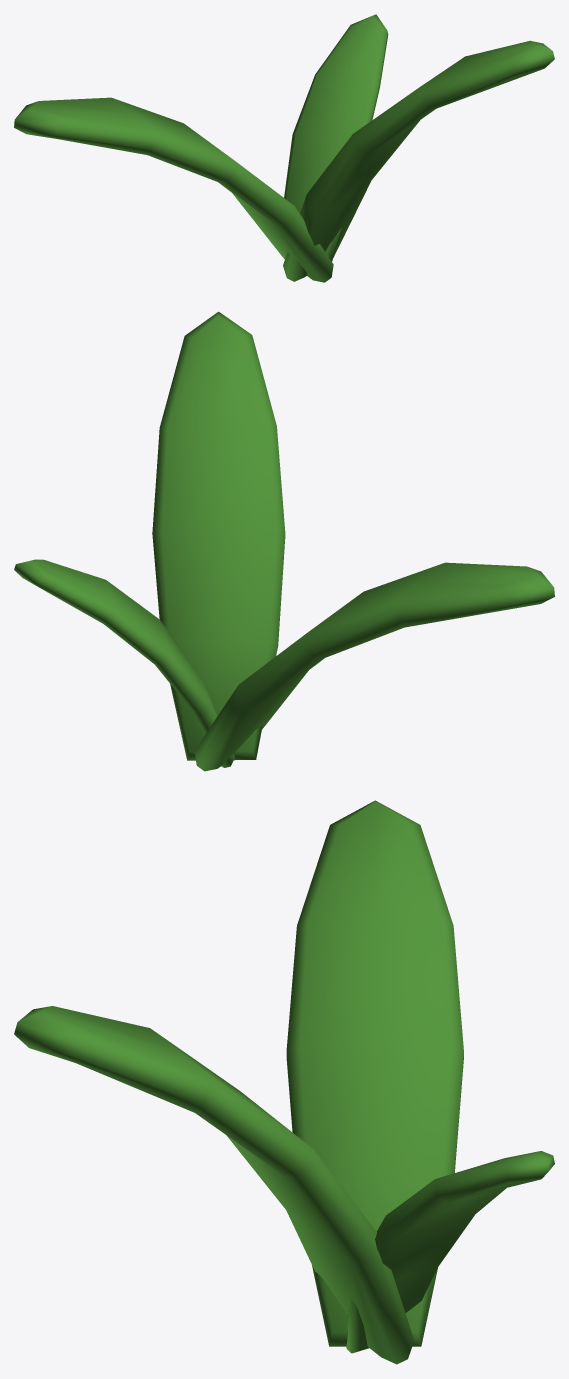
The model's file is Grass_02.fbx.
The picture shows the model from 3 angles, top to bottom: view 1: azimuth 30°, elevation 25°; view 2: azimuth 150°, elevation 25°; view 3: azimuth 270°, elevation 25°; orthographic projection. The views are drawn at different scales.
Parts seen in each view (by area): view 1: Grass_02; view 2: Grass_02; view 3: Grass_02.
Part boxes in pixels (box(x1,y1,x2,y2)): Grass_02: box(14, 14, 554, 282); Grass_02: box(14, 311, 554, 771); Grass_02: box(14, 800, 554, 1364).
Bounding box in the file's own units: 363 × 228 × 266.
